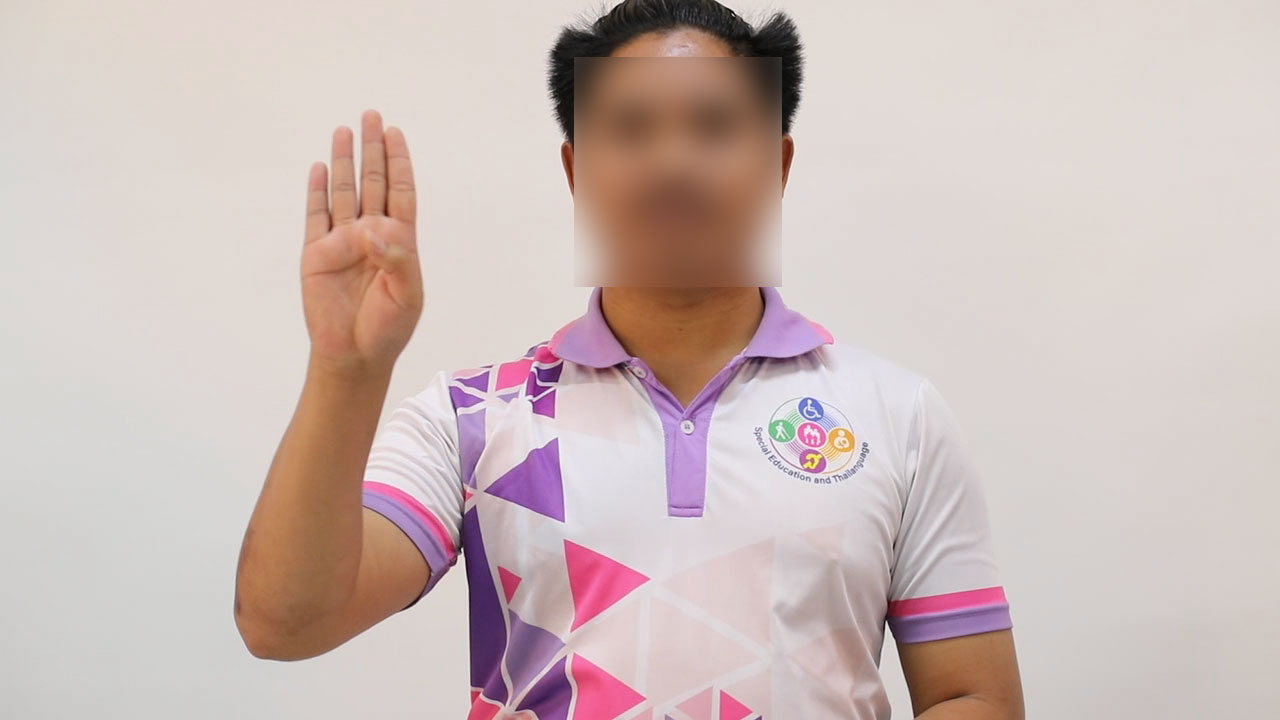bor: (277, 106, 438, 403)
